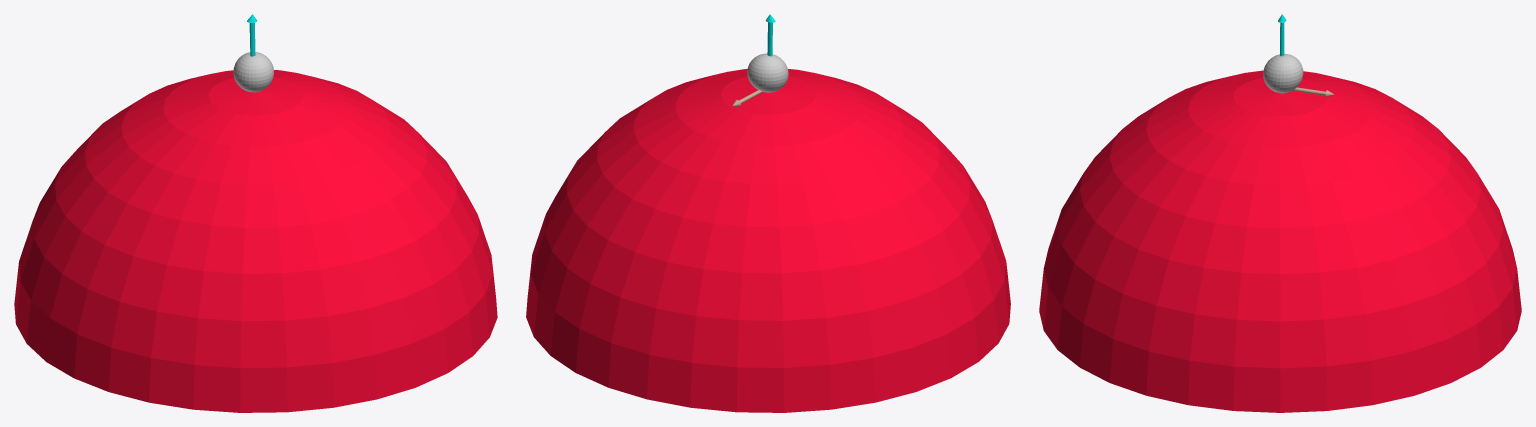
The model's file is cupula.glb.
3 views of the same model, side by side, from view 1: azimuth 30°, elevation 25°; view 2: azimuth 150°, elevation 25°; view 3: azimuth 270°, elevation 25° (orthographic).
Visible parts, largest first — view 1: Sphere, Sphere.003; view 2: Sphere, Sphere.003; view 3: Sphere, Sphere.003.
Part boxes in pixels (left/top/right/bottom): Sphere: left=14, top=70, right=497, bottom=412; Sphere.003: left=233, top=14, right=273, bottom=92; Sphere: left=526, top=69, right=1010, bottom=412; Sphere.003: left=732, top=14, right=788, bottom=106; Sphere: left=1039, top=70, right=1521, bottom=412; Sphere.003: left=1263, top=14, right=1333, bottom=97.
Bounding box in the file's own units: 12 × 8.11 × 12.
